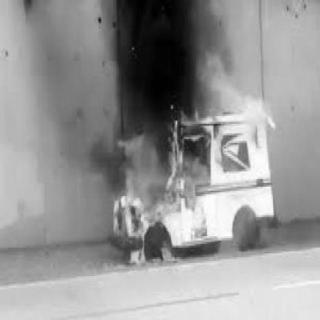Fire: (156, 237, 178, 265)
Smoke: (23, 4, 113, 182)
